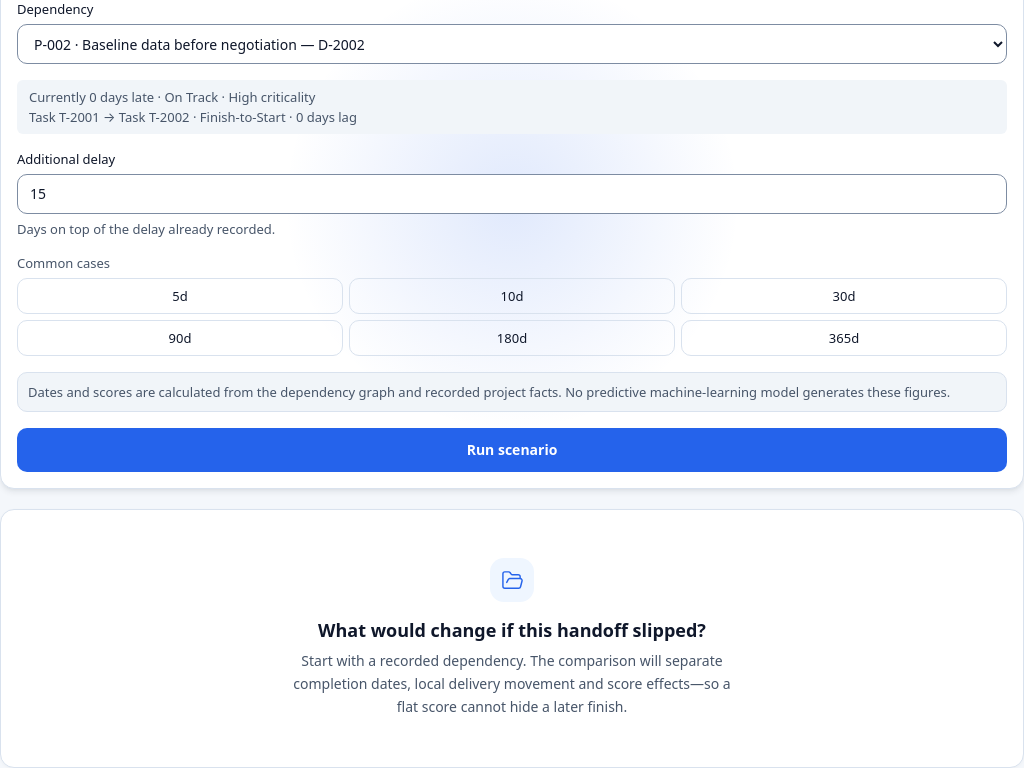
Test: ScenariosPage › shows the deterministic response curve and its table fallback
(page scrolled)
Click the button "Run scenario" at (512, 450), box [17, 428, 1007, 472]
(page scrolled)
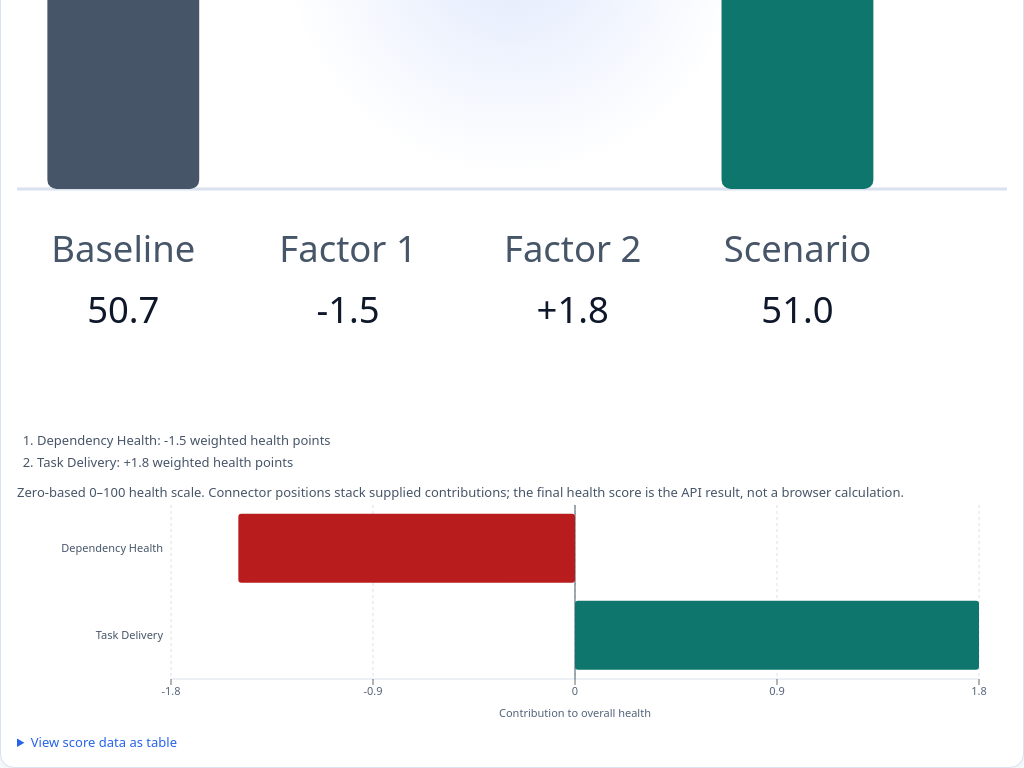
expect the heading "View score data as table" is shown: met, box [31, 734, 177, 752]
